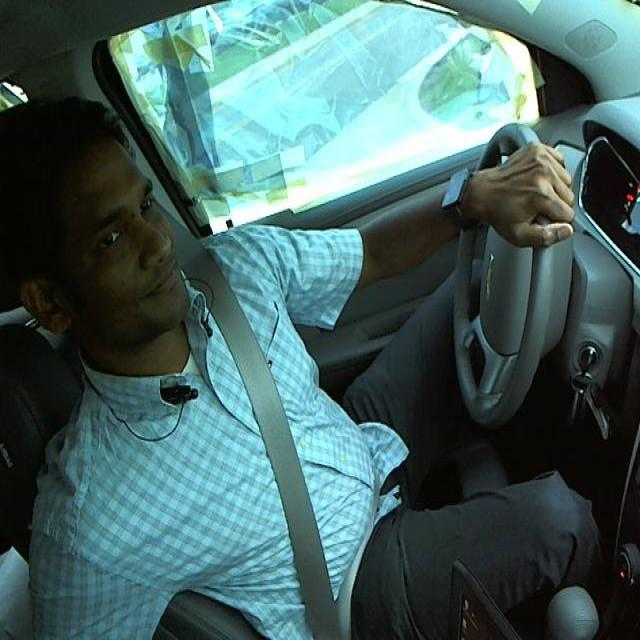seatbelt: (198, 296, 365, 639)
